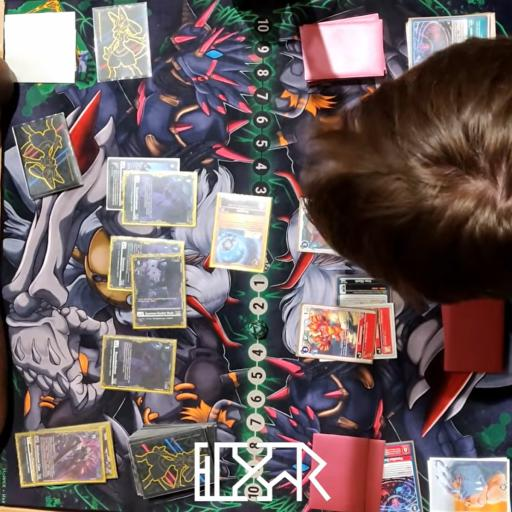card: (14, 419, 107, 488), (405, 15, 491, 74), (292, 306, 380, 362), (106, 236, 186, 294), (130, 253, 189, 329), (215, 194, 269, 276), (98, 338, 176, 394), (119, 171, 199, 225), (104, 157, 182, 212), (369, 438, 422, 512), (297, 195, 345, 255), (368, 301, 400, 361), (337, 276, 393, 310)
